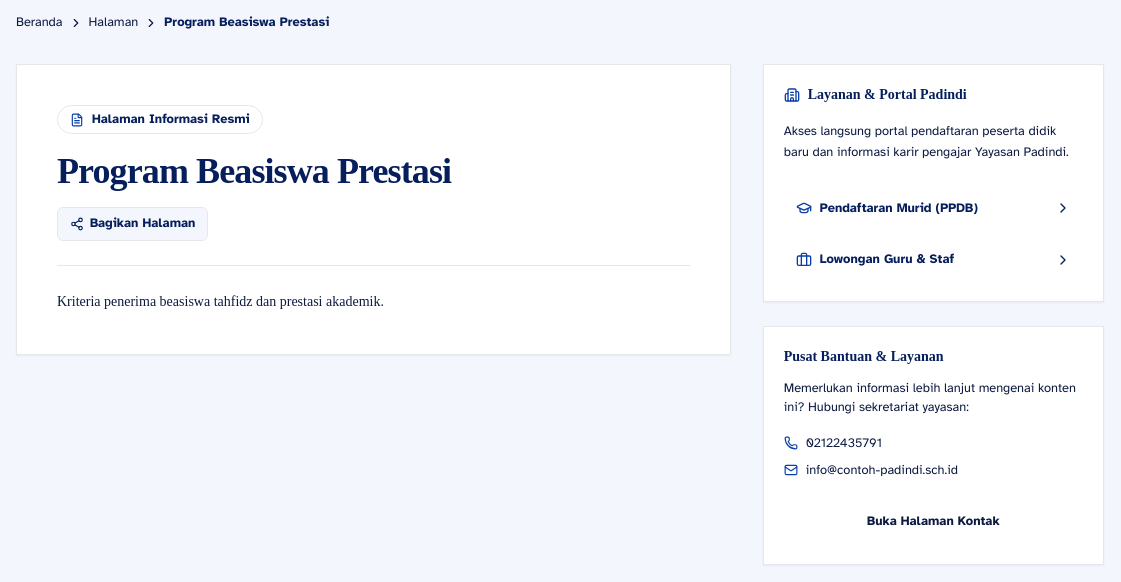
it: StaticPageView — Halaman Publik /halaman/:slug › dapat menyalin URL saat tombol bagikan halaman diklik
Step 1. Click the button "Bagikan Halaman" → {"x": 133, "y": 224}, box left=57, top=207, right=208, bottom=241
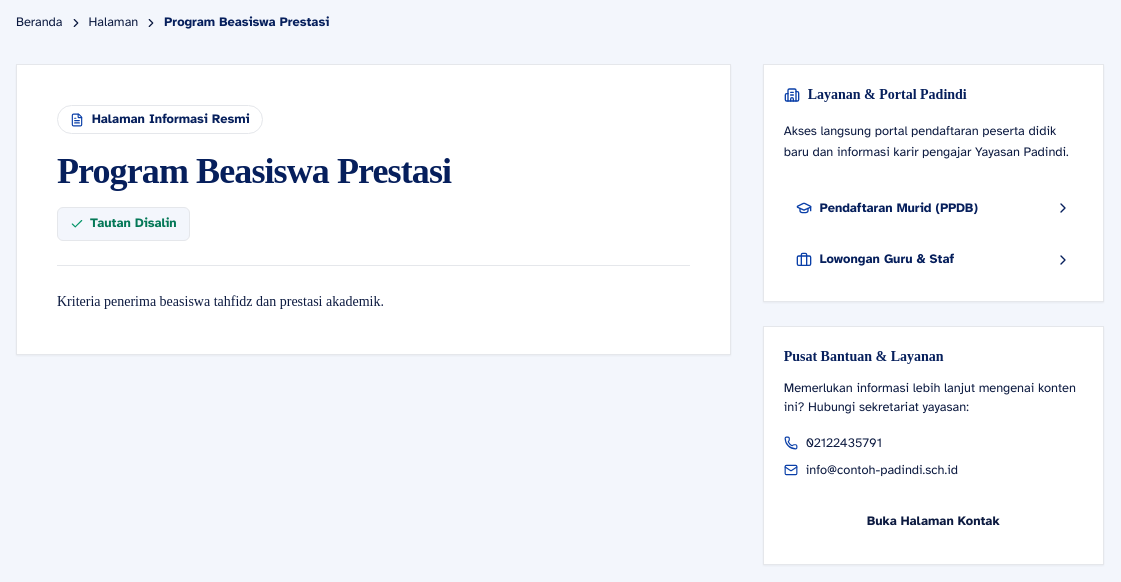
Result: the text "Tautan Disalin" is shown at left=90, top=214, right=177, bottom=234
